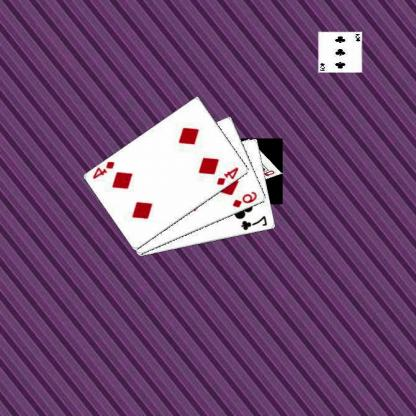4D: (92, 158, 118, 180), (216, 165, 242, 186)
6D: (232, 188, 260, 209)
7C: (240, 213, 271, 232)
